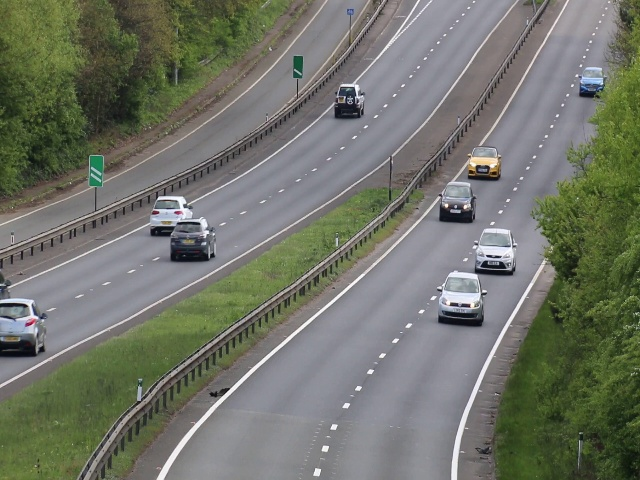car: (1, 296, 50, 357), (437, 270, 485, 326), (169, 218, 218, 262), (475, 227, 518, 276), (150, 196, 195, 237), (438, 180, 477, 224), (466, 144, 504, 181), (333, 83, 366, 119), (578, 65, 606, 99)
